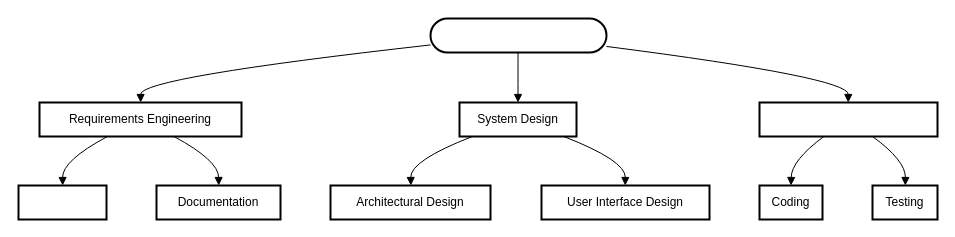
The diagram is 955 pixels wide and 237 high, and some of its shapes have lost their labels. Here are the shapes that lost their labels. From the top down, the box of each, then its label:
(429, 17, 607, 53): Software Engineering
(758, 101, 938, 137): Software Development
(17, 184, 107, 220): Elicitation
